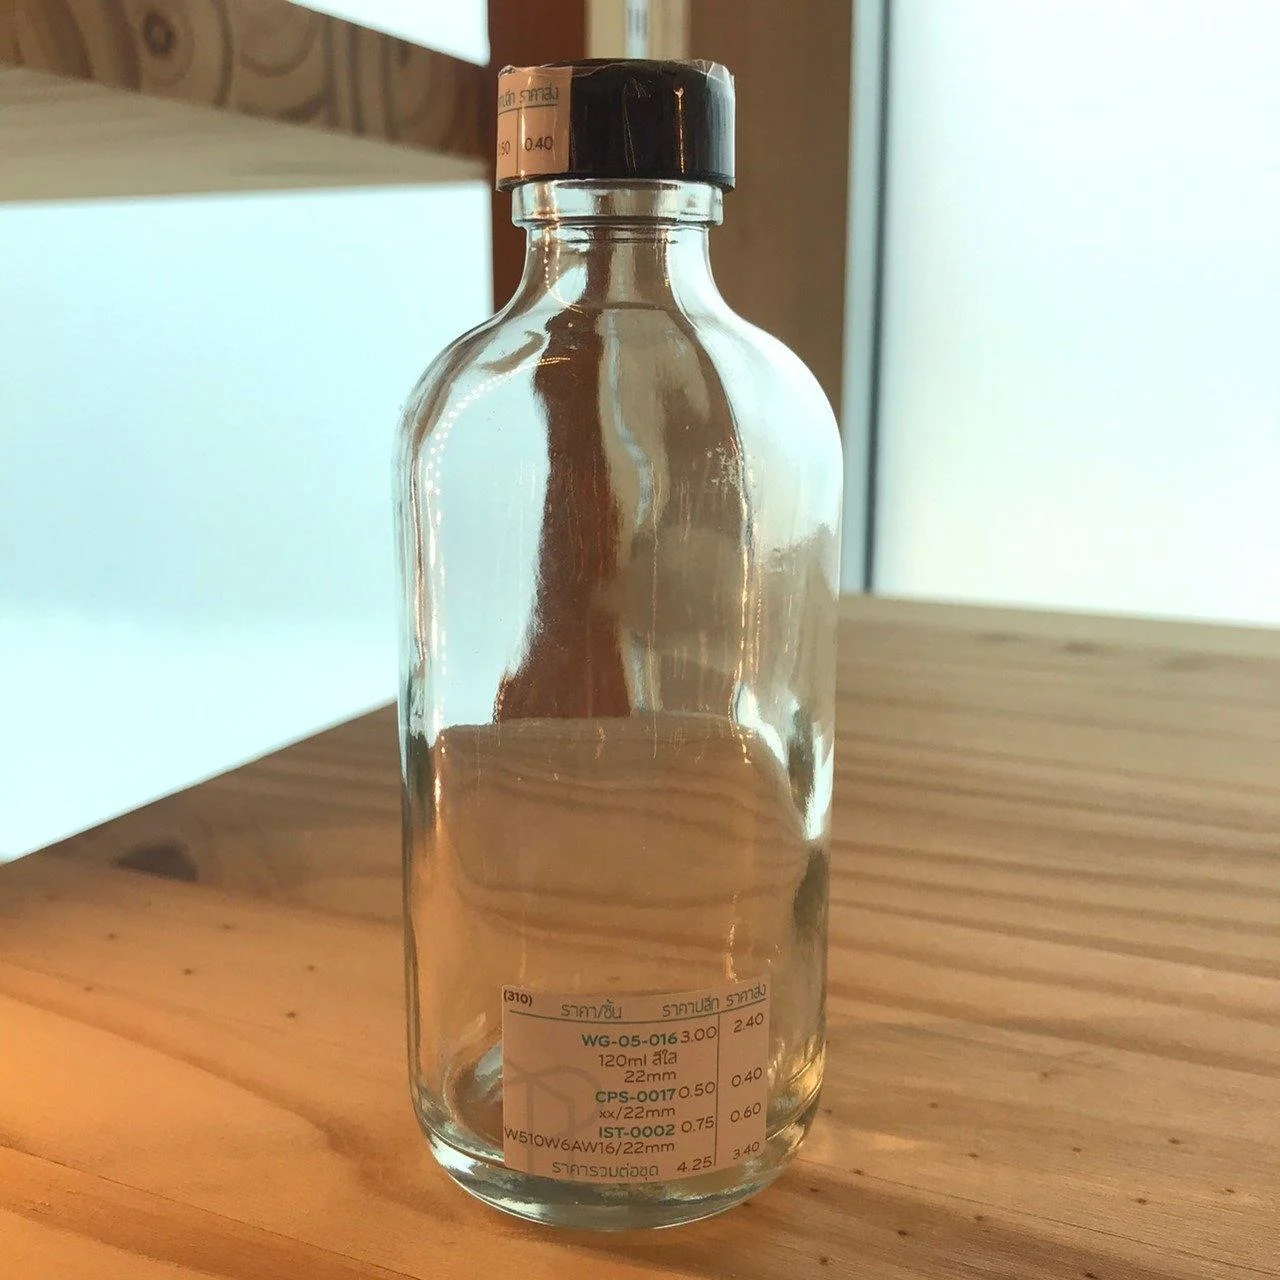glass_bottle: (361, 25, 880, 1259)
